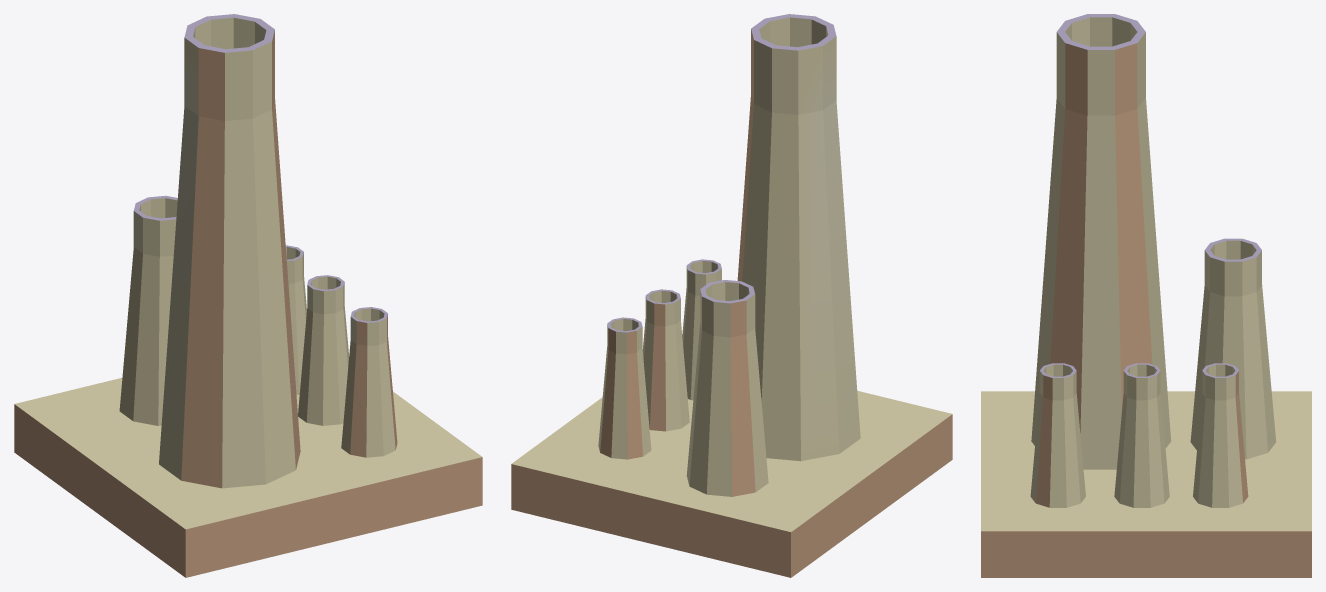
File: nuclear_power_station.glb
3 views of the same model, side by side, from view 1: azimuth 30°, elevation 25°; view 2: azimuth 150°, elevation 25°; view 3: azimuth 270°, elevation 25° (orthographic). The views are drawn at different scales.
Parts seen in each view (by area): view 1: Cube.001; view 2: Cube.001; view 3: Cube.001.
Boxes of the visible parts, x1,y1,x2,y2 form: Cube.001: (14, 14, 482, 577); Cube.001: (511, 14, 952, 577); Cube.001: (981, 14, 1311, 577).
Bounding box in the file's own units: 1.43 × 2.18 × 1.43.
